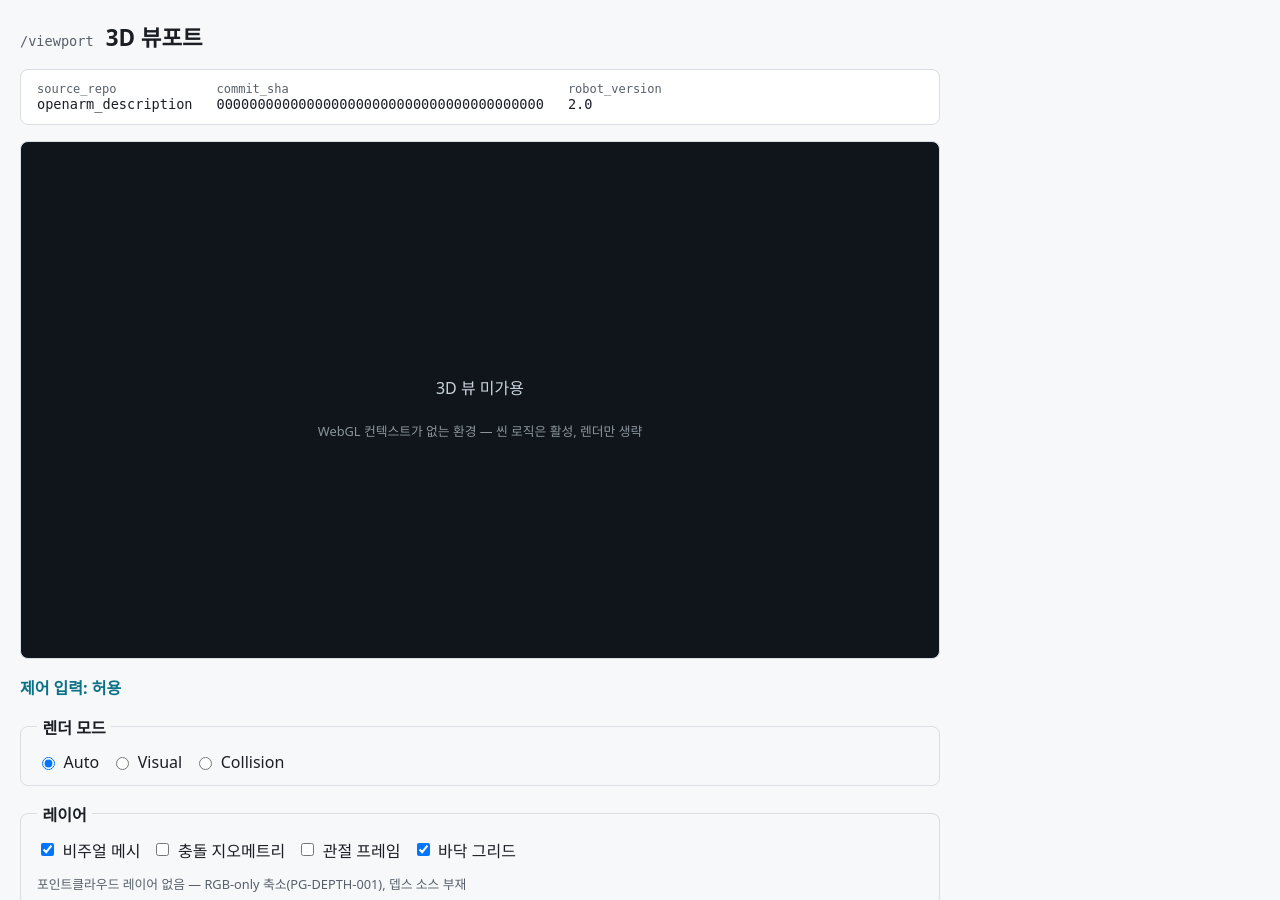
Test case: ViewportPanel › surfaces the link7 collision gap only in Collision mode (CG-G-02g)
Expected: the heading "3D 뷰포트" is shown, [106,20,203,53]
Expected: the text "collisions.yaml 미선언" is not shown
Click the radio button labelled "Collision" at [206, 763], box [199,756,212,770]
(page scrolled)
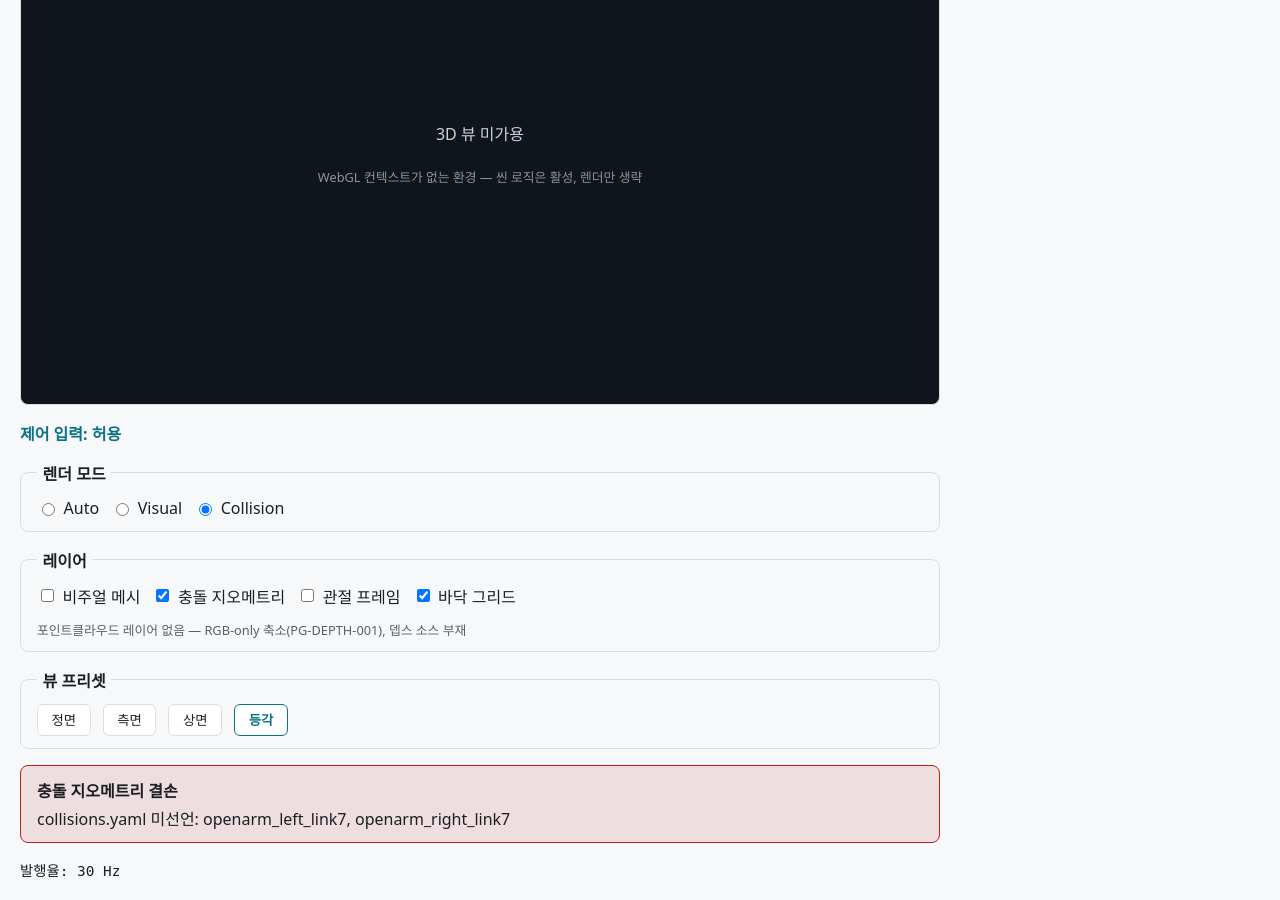
Expected: the text "collisions.yaml 미선언: openarm_left_link7, openarm_right_link7" is shown, [37,808,510,830]
